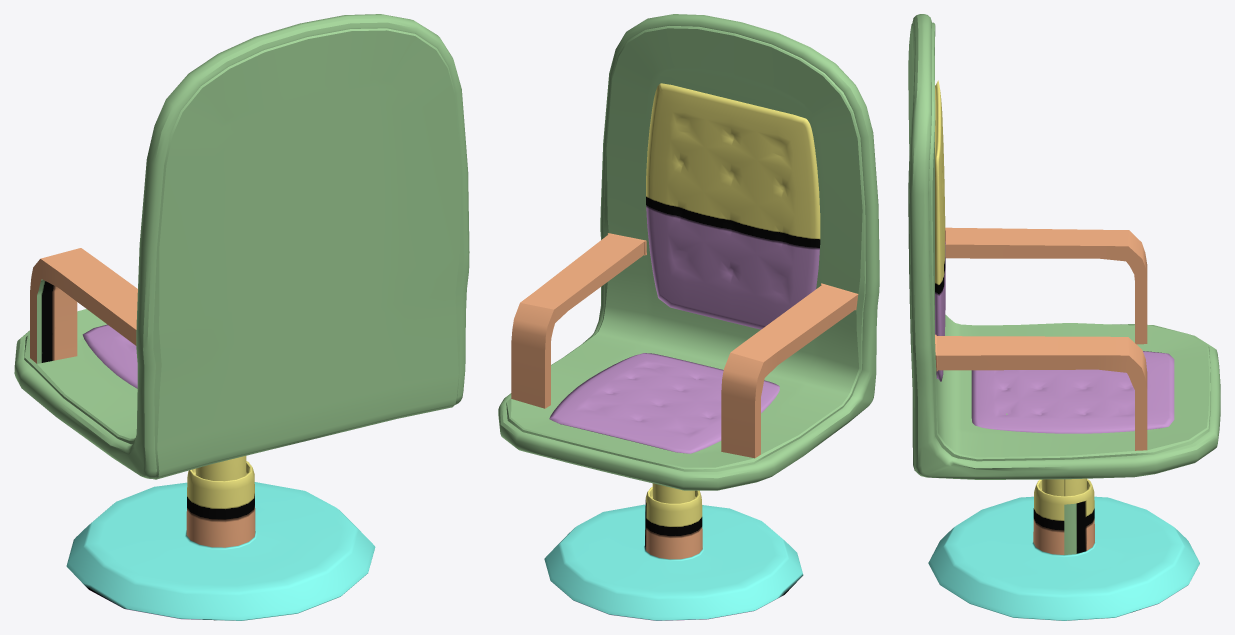
The model's file is SecurityChair01.fbx.
3 views of the same model, side by side, from view 1: azimuth 30°, elevation 25°; view 2: azimuth 150°, elevation 25°; view 3: azimuth 270°, elevation 25° (orthographic). The views are drawn at different scales.
Visible parts, largest first — view 1: SecurityChair01_Modeling_V001:SecurityChair01_Chair; view 2: SecurityChair01_Modeling_V001:SecurityChair01_Chair; view 3: SecurityChair01_Modeling_V001:SecurityChair01_Chair.
Part boxes in pixels (<box>): SecurityChair01_Modeling_V001:SecurityChair01_Chair: <box>14,14,469,620</box>; SecurityChair01_Modeling_V001:SecurityChair01_Chair: <box>498,14,879,620</box>; SecurityChair01_Modeling_V001:SecurityChair01_Chair: <box>908,14,1220,620</box>.
Size of the model in its own units: 80.88 by 139 by 75.36.
